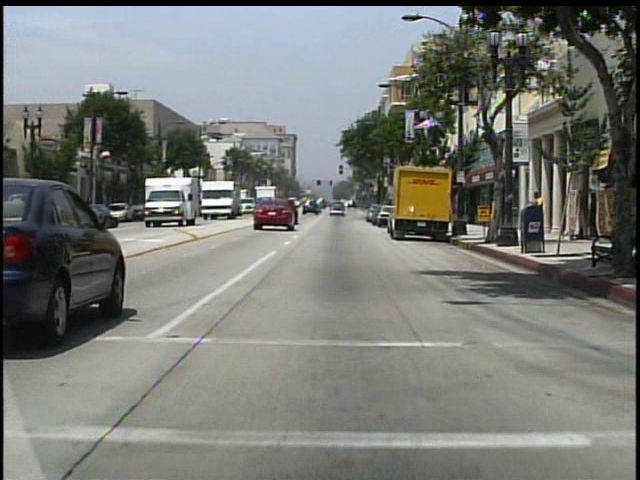person: (528, 190, 544, 236)
